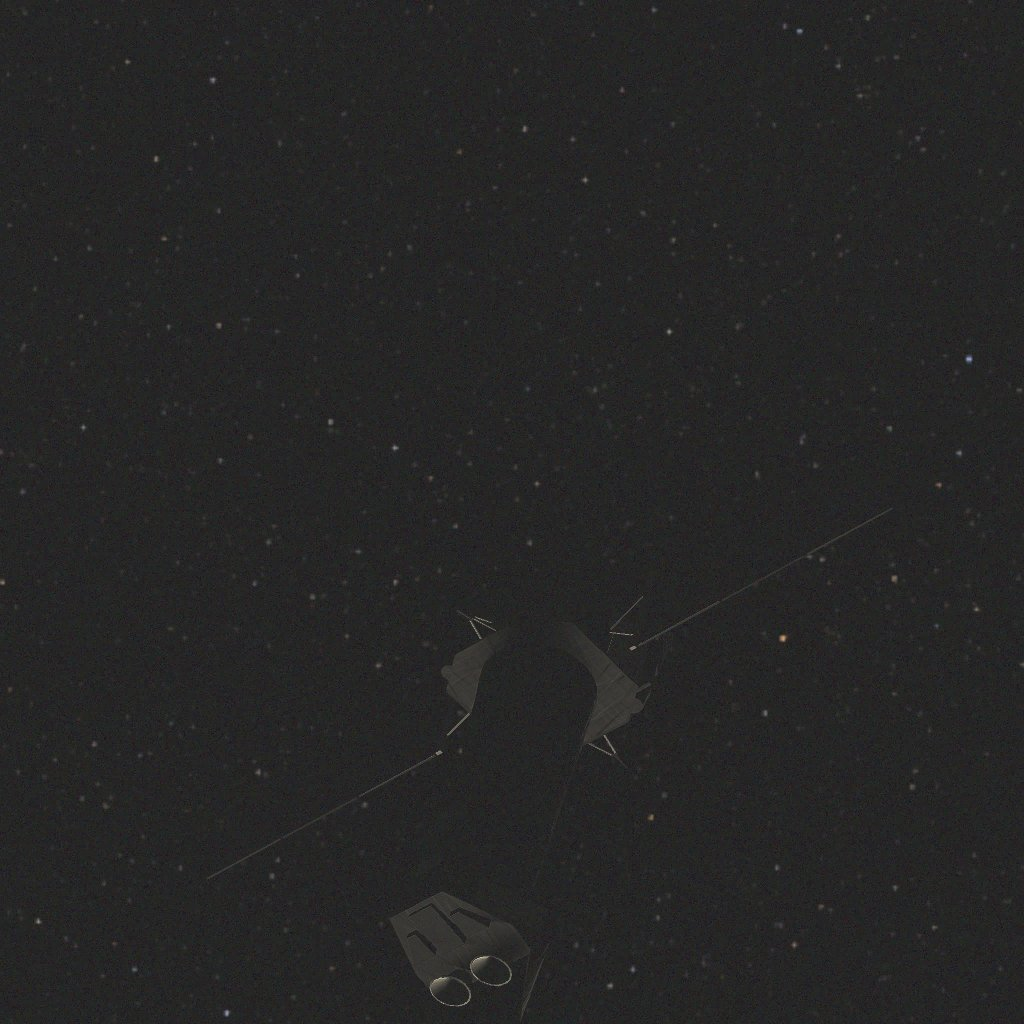xmm_newton: (178, 505, 910, 999)
